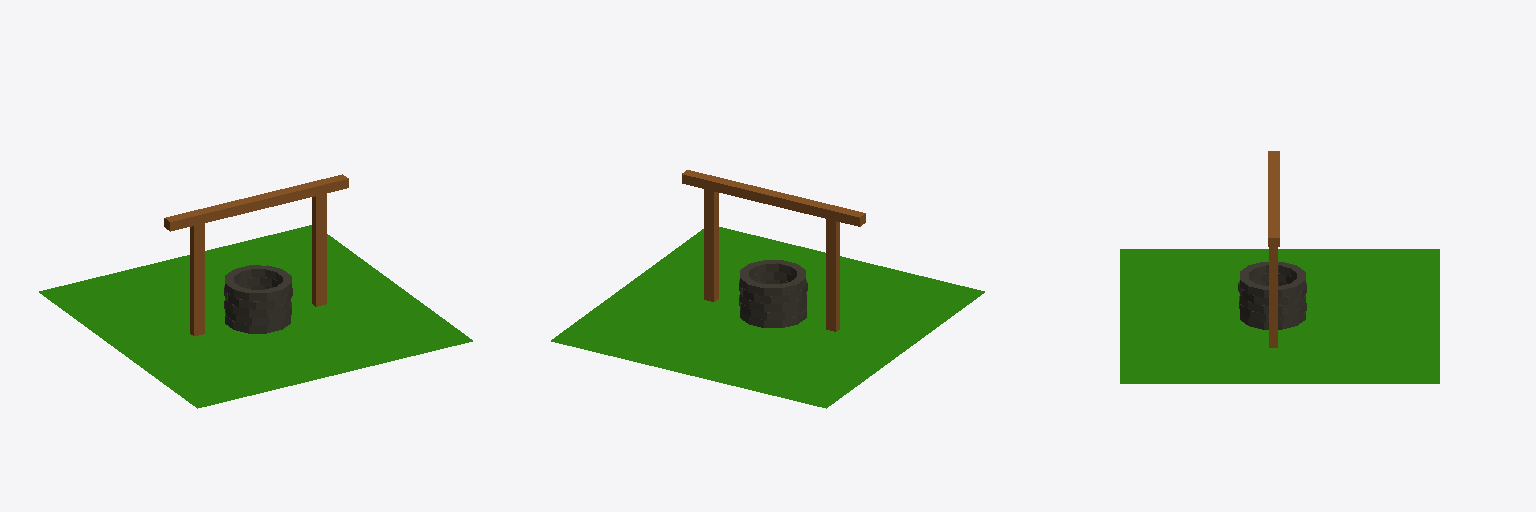
The model's file is brick_well.obj.
3 views of the same model, side by side, from view 1: azimuth 30°, elevation 25°; view 2: azimuth 150°, elevation 25°; view 3: azimuth 270°, elevation 25° (orthographic).
Parts seen in each view (by area): view 1: Plane, Cube.074_Cube.094, Cube.073_Cube.093, Cube.072_Cube.092; view 2: Plane, Cube.074_Cube.094, Cube.073_Cube.093, Cube.072_Cube.092; view 3: Plane, Cube.074_Cube.094, Cube.073_Cube.093.
Part boxes in pixels (x1,y1,x2,y2): Plane: (39,225,472,408); Cube.074_Cube.094: (164,174,348,231); Cube.073_Cube.093: (312,194,326,306); Cube.072_Cube.092: (190,223,204,336); Plane: (551,227,984,408); Cube.074_Cube.094: (682,170,865,226); Cube.073_Cube.093: (704,189,718,301); Cube.072_Cube.092: (826,219,839,331); Plane: (1120,249,1439,383); Cube.074_Cube.094: (1268,151,1279,246); Cube.073_Cube.093: (1269,247,1277,347).
Bounding box in the file's own units: 33.72 × 14.14 × 33.72.